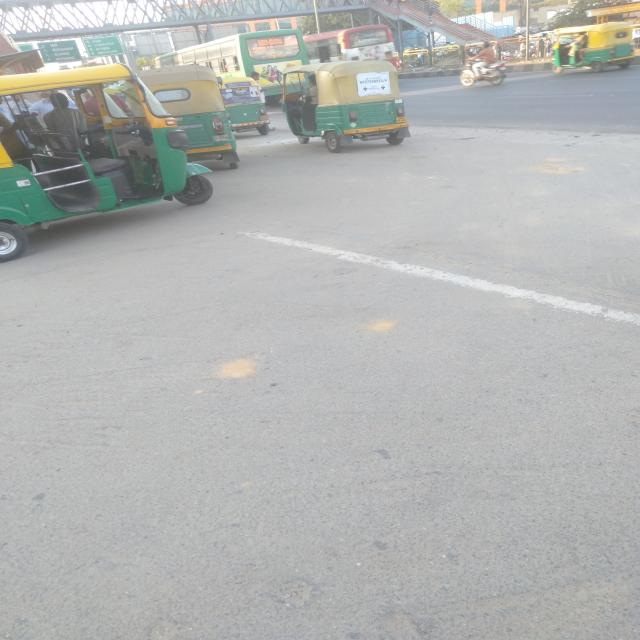Autorickshaw: (1, 57, 221, 255), (118, 64, 245, 165), (280, 59, 414, 143), (547, 22, 640, 67), (216, 78, 274, 135)
Bike: (458, 50, 512, 89), (488, 45, 515, 63), (516, 44, 542, 62)
Bus: (154, 30, 316, 104), (271, 27, 406, 78)
